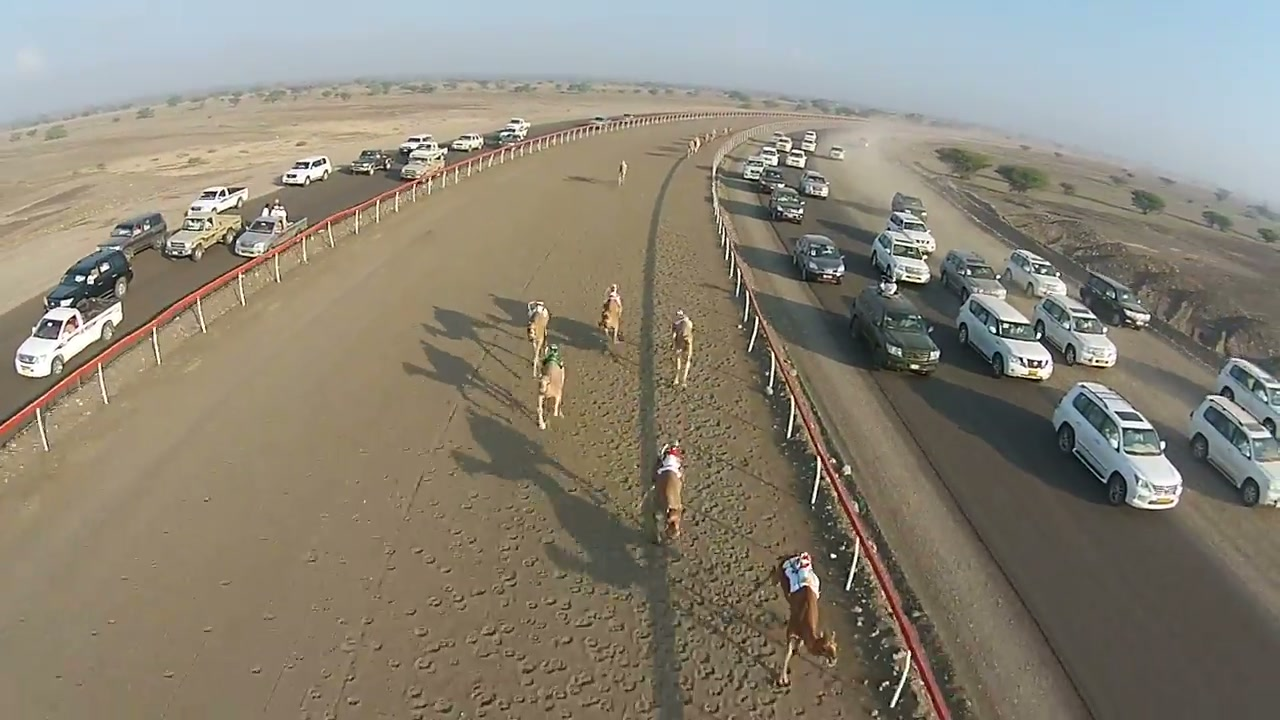animal_foot_print: (355, 438, 788, 715), (589, 367, 720, 517)
